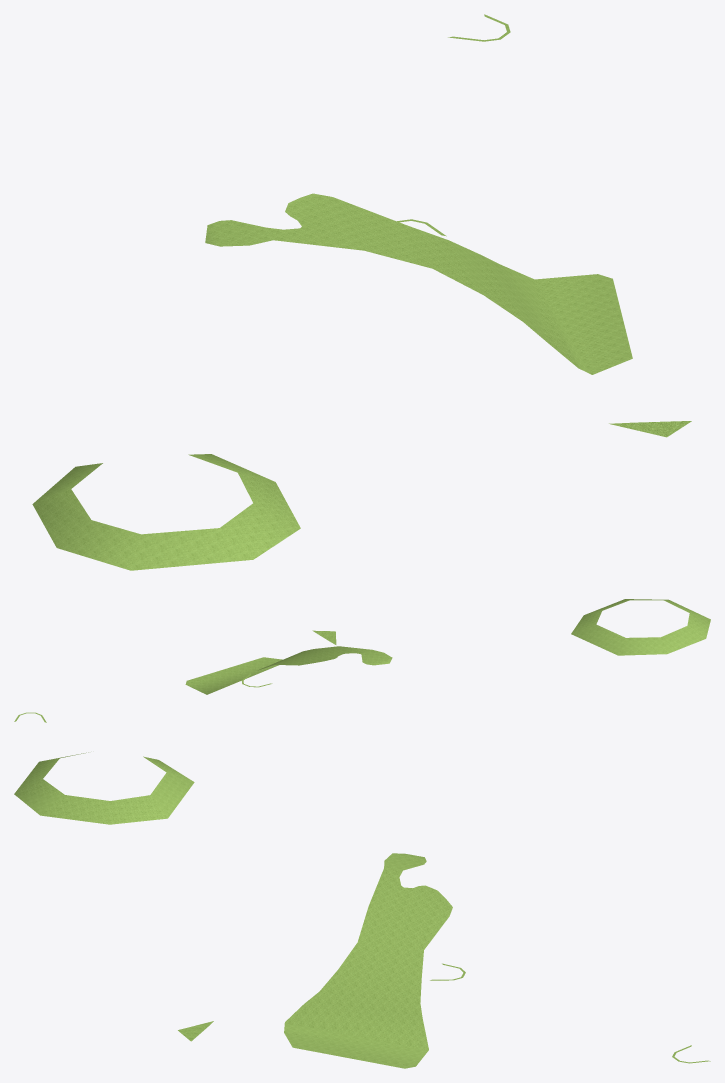
File: kd_stage_1366d7_3_0_bounded.glb
The picture shows the model from 3 angles, top to bottom: view 1: azimuth 30°, elevation 25°; view 2: azimuth 150°, elevation 25°; view 3: azimuth 270°, elevation 25°; orthographic projection. The views are drawn at different scales.
Visible parts, largest first — view 1: kd_stage_1366d7_3_0_bounded; view 2: kd_stage_1366d7_3_0_bounded; view 3: kd_stage_1366d7_3_0_bounded.
Part boxes in pixels (x1=…): kd_stage_1366d7_3_0_bounded: x1=32, y1=14, x2=691, y2=570; kd_stage_1366d7_3_0_bounded: x1=14, y1=599, x2=710, y2=722; kd_stage_1366d7_3_0_bounded: x1=14, y1=752, x2=710, y2=1068.
Size of the model in its own units: 376 by 54.03 by 385.
1 material, 1 textured.
